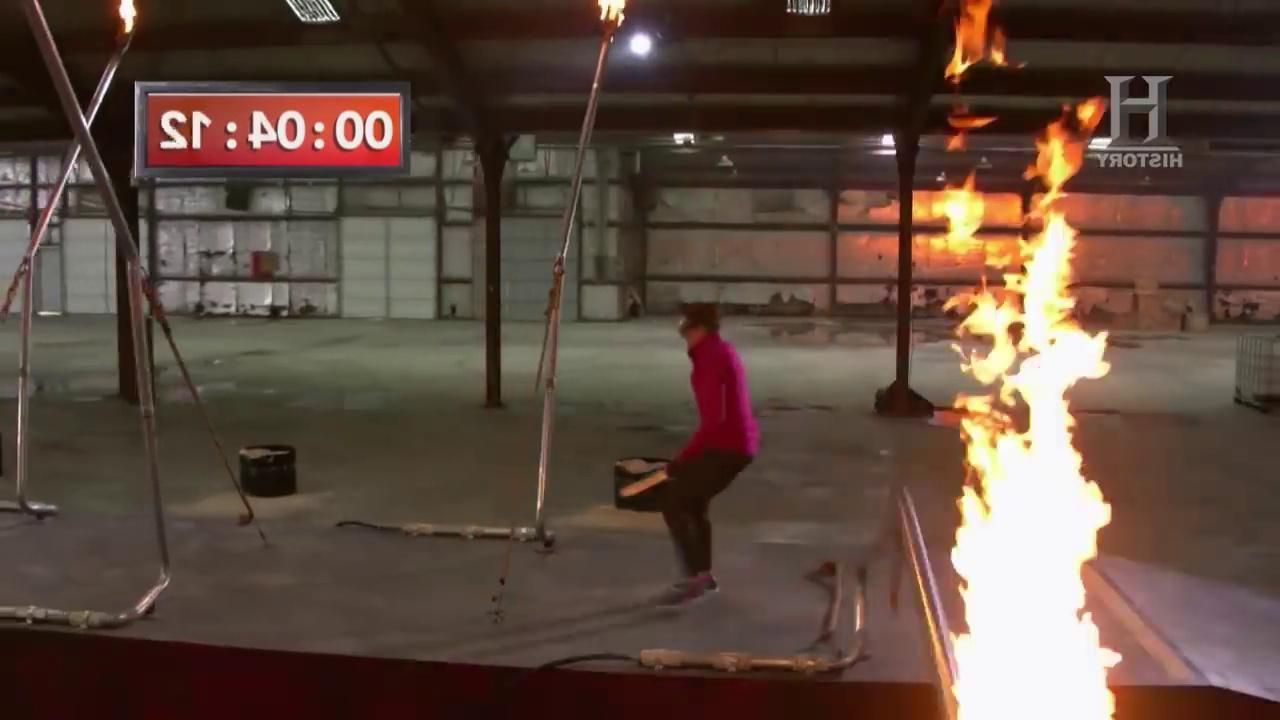Fire: (929, 94, 1106, 720), (939, 6, 1019, 81)
